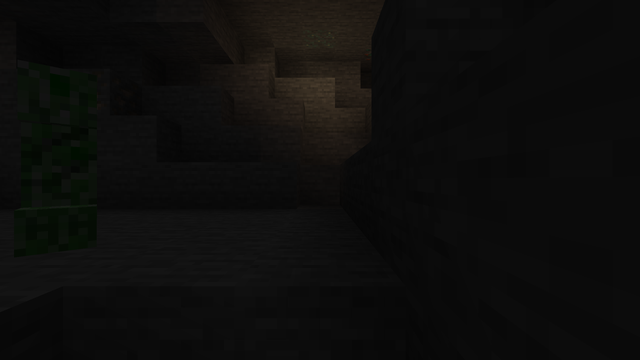creepers: (10, 53, 117, 251)
